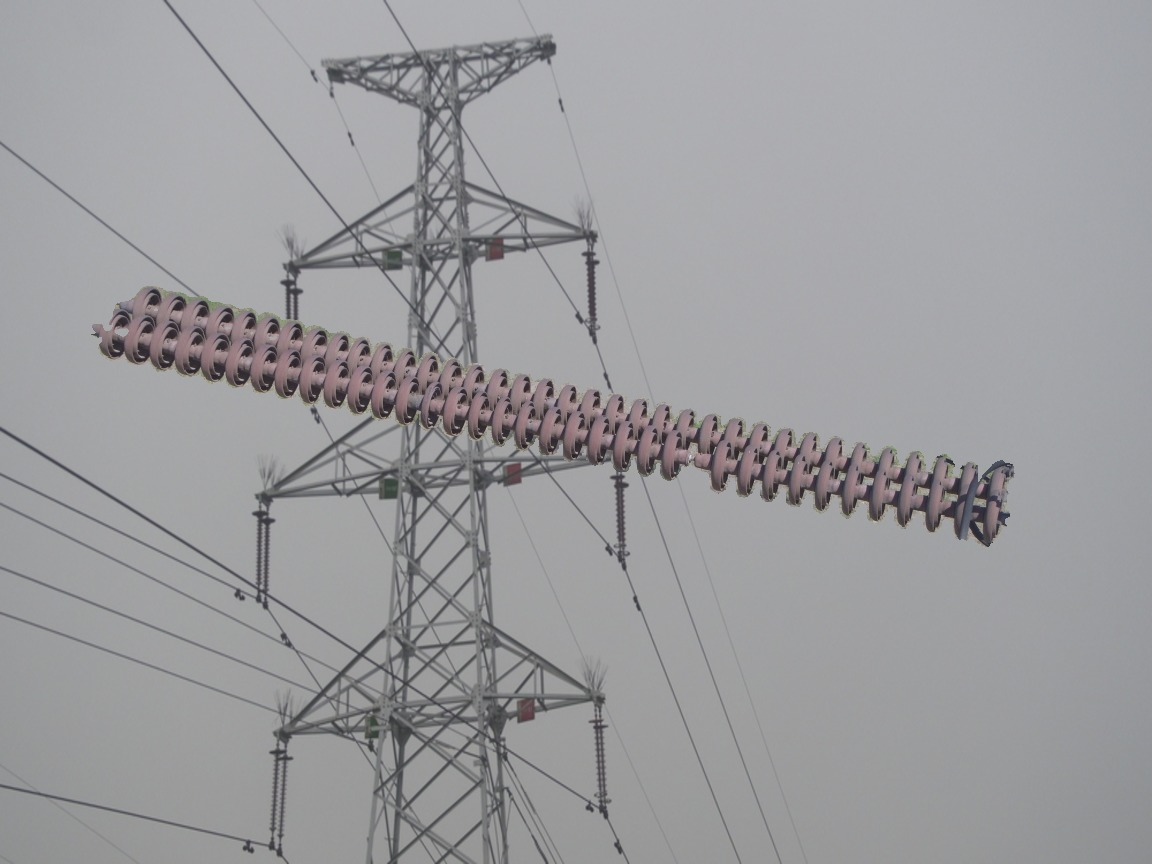defect: (653, 427, 733, 494)
